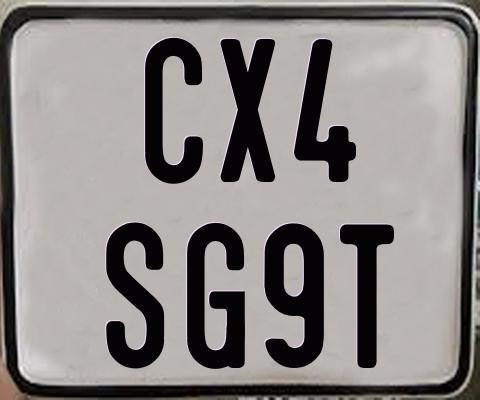4: (291, 38, 357, 187)
9: (261, 220, 322, 368)
C: (144, 36, 204, 183)
G: (186, 223, 247, 372)
S: (103, 220, 163, 369)
T: (338, 223, 398, 371)
X: (219, 39, 277, 184)
